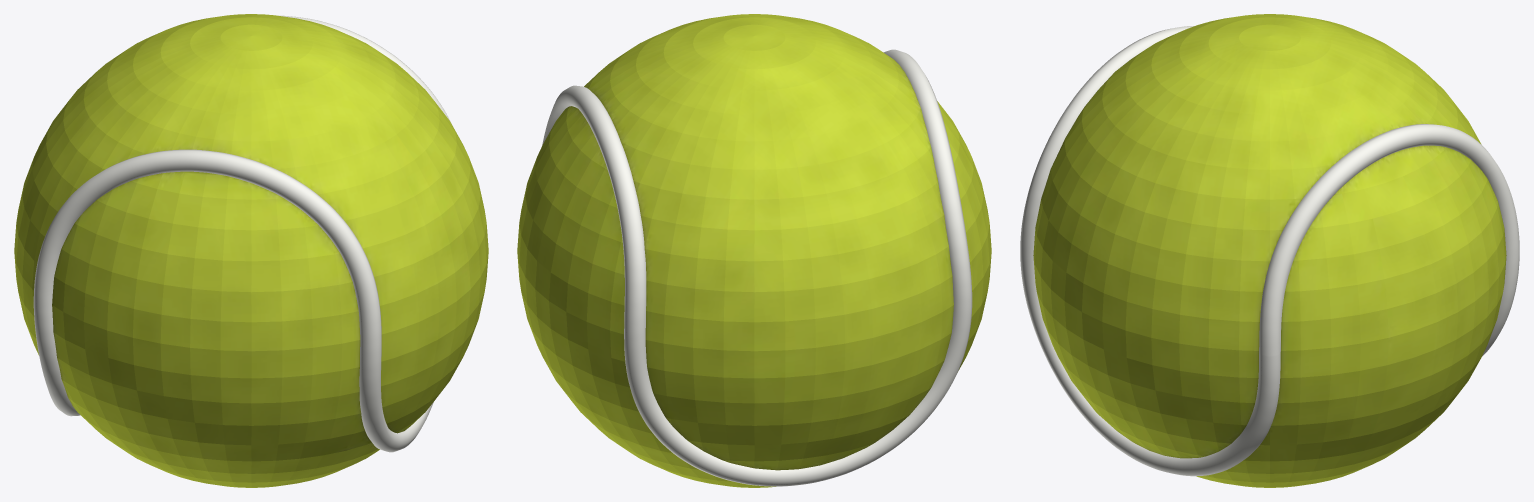
The model's file is tennis.glb.
3 renders of one model, left to right at view 1: azimuth 30°, elevation 25°; view 2: azimuth 150°, elevation 25°; view 3: azimuth 270°, elevation 25°, orthographic.
Parts seen in each view (by area): view 1: ball_tennis, ball_seam_white; view 2: ball_tennis, ball_seam_white; view 3: ball_tennis, ball_seam_white.
Boxes of the visible parts, bbox=[...] form: ball_tennis: bbox=[14, 14, 488, 487]; ball_seam_white: bbox=[33, 15, 451, 452]; ball_tennis: bbox=[517, 14, 991, 487]; ball_seam_white: bbox=[542, 49, 972, 486]; ball_tennis: bbox=[1033, 14, 1506, 487]; ball_seam_white: bbox=[1020, 26, 1519, 476].
Size of the model in its own units: 0.0705 by 0.067 by 0.0705.
Materials: 2 (1 with a texture image).
